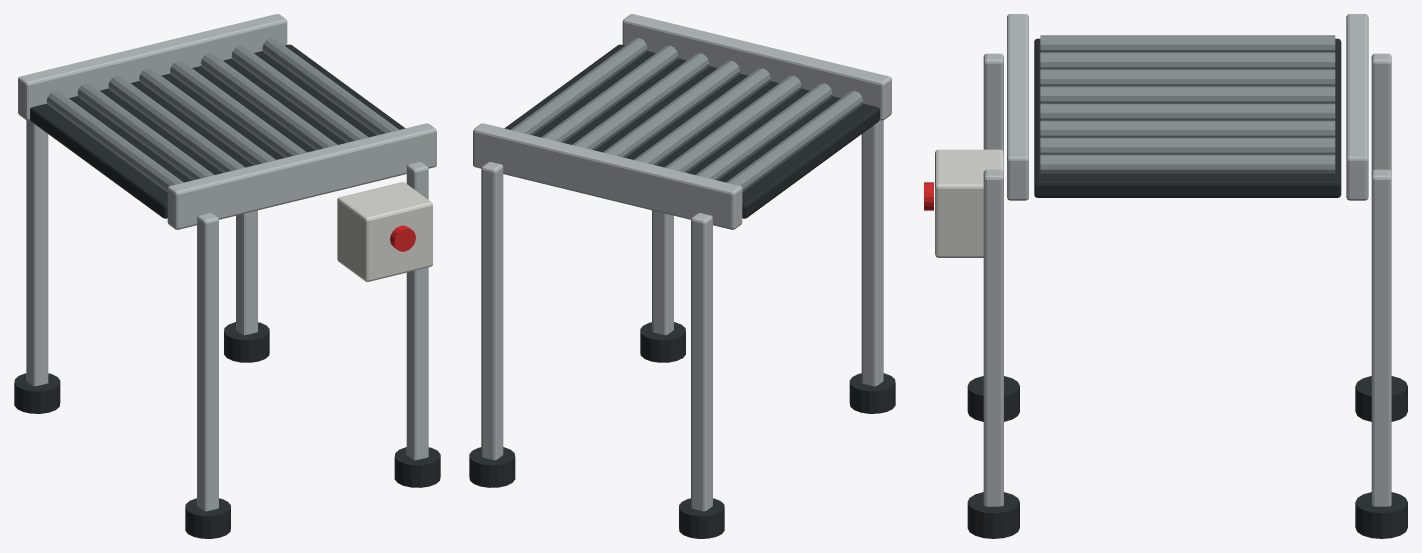
Rendered from kit-transfer.glb.
The picture shows the model from 3 angles, left to right: view 1: azimuth 30°, elevation 25°; view 2: azimuth 150°, elevation 25°; view 3: azimuth 270°, elevation 25°; orthographic projection. The views are drawn at different scales.
Parts seen in each view (by area): view 1: Conveyor leg; view 2: Conveyor leg; view 3: Conveyor leg.
Boxes of the visible parts, bbox=[...] form: Conveyor leg: bbox=[14, 14, 440, 538]; Conveyor leg: bbox=[469, 14, 895, 538]; Conveyor leg: bbox=[924, 14, 1407, 538].
Bounding box in the file's own units: 0.85 × 1.05 × 1.2.
Materials: 1 (1 with a texture image).
